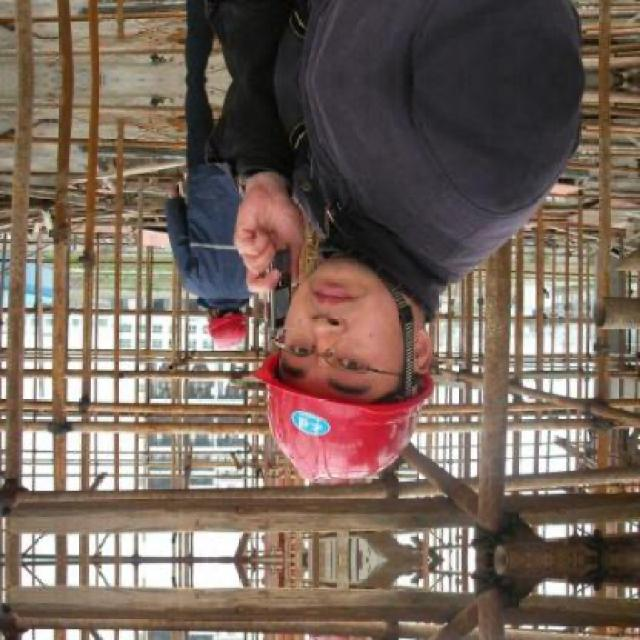safetyhelmet: (252, 249, 442, 492)
